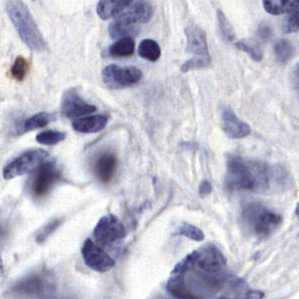Lymphocyte: (9, 54, 30, 82)
